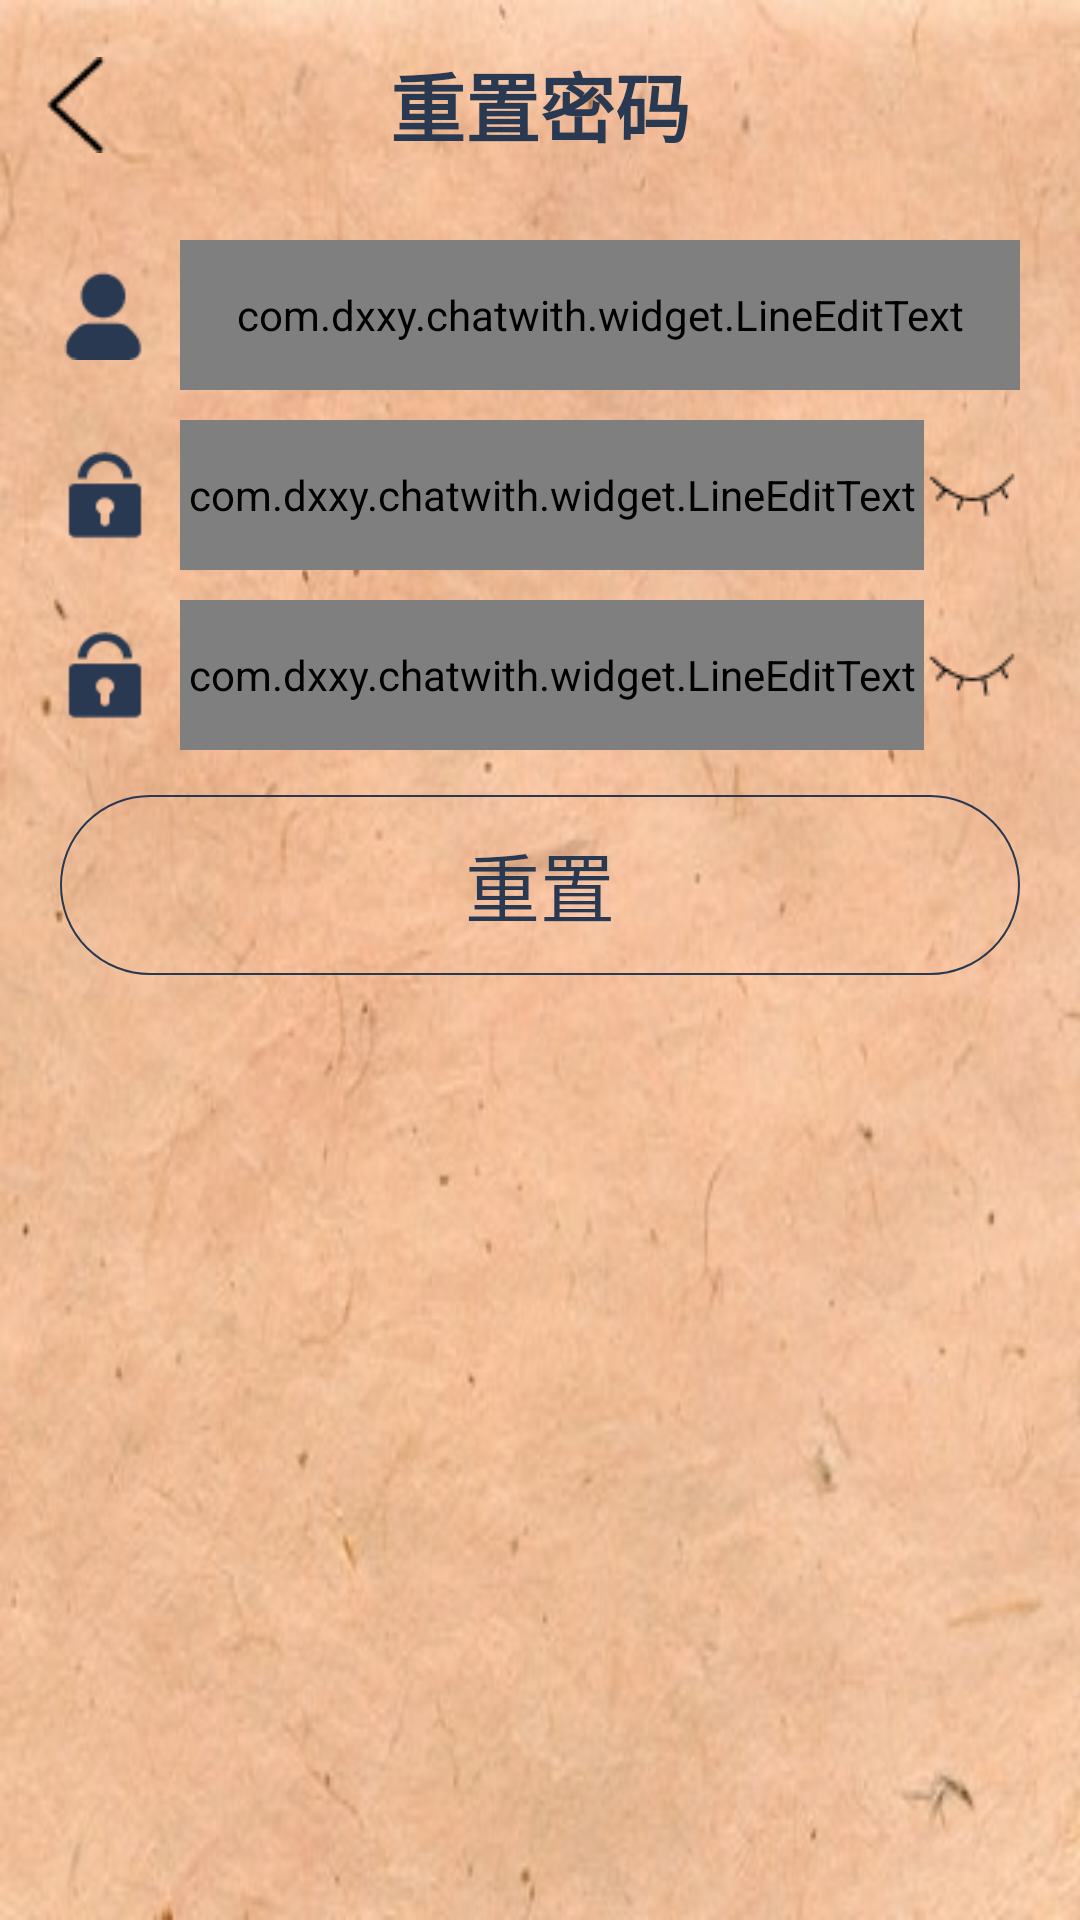

Icons on this 1080w x 1920h Android screen, each with its box as (x1, y1, x2, y2):
back: (47, 57, 116, 153)
hidepassword: (929, 473, 1015, 517), (929, 653, 1015, 697)
login password: (68, 451, 142, 539), (68, 632, 142, 719)
login username: (64, 272, 142, 360)
